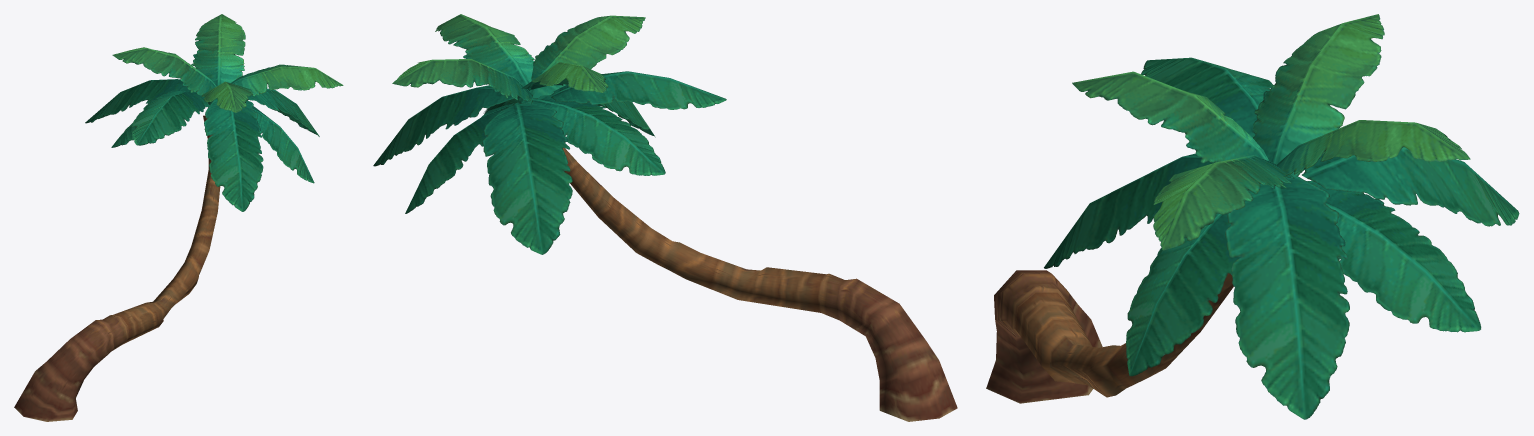
Rendered from hbxz_plant003_02.FBX.
The picture shows the model from 3 angles, left to right: view 1: azimuth 30°, elevation 25°; view 2: azimuth 150°, elevation 25°; view 3: azimuth 270°, elevation 25°; orthographic projection. The views are drawn at different scales.
Visible parts, largest first — view 1: hbxz_plant003_02; view 2: hbxz_plant003_02; view 3: hbxz_plant003_02.
Boxes of the visible parts, <box> form: hbxz_plant003_02: <box>14,14,343,421</box>; hbxz_plant003_02: <box>373,14,957,421</box>; hbxz_plant003_02: <box>986,14,1519,419</box>.
Bounding box in the file's own units: 454 × 317 × 292.
